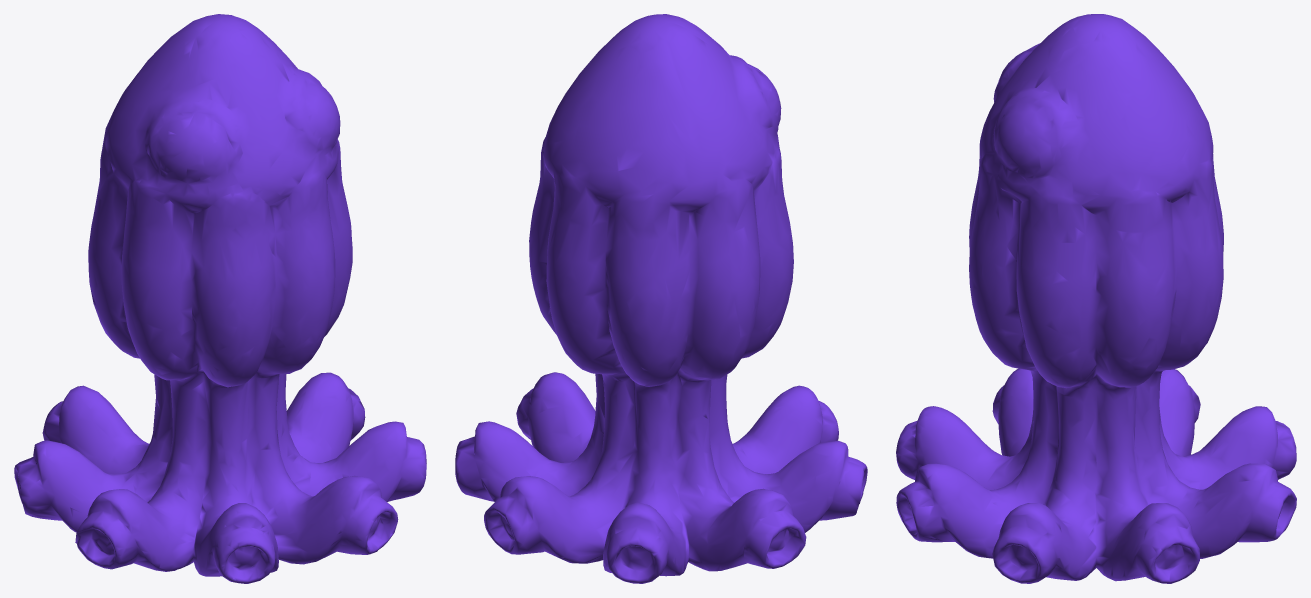
Rendered from medium-ar.glb.
3 views of the same model, side by side, from view 1: azimuth 30°, elevation 25°; view 2: azimuth 150°, elevation 25°; view 3: azimuth 270°, elevation 25° (orthographic).
Size of the model in its own units: 0.104 by 0.1453 by 0.104.
